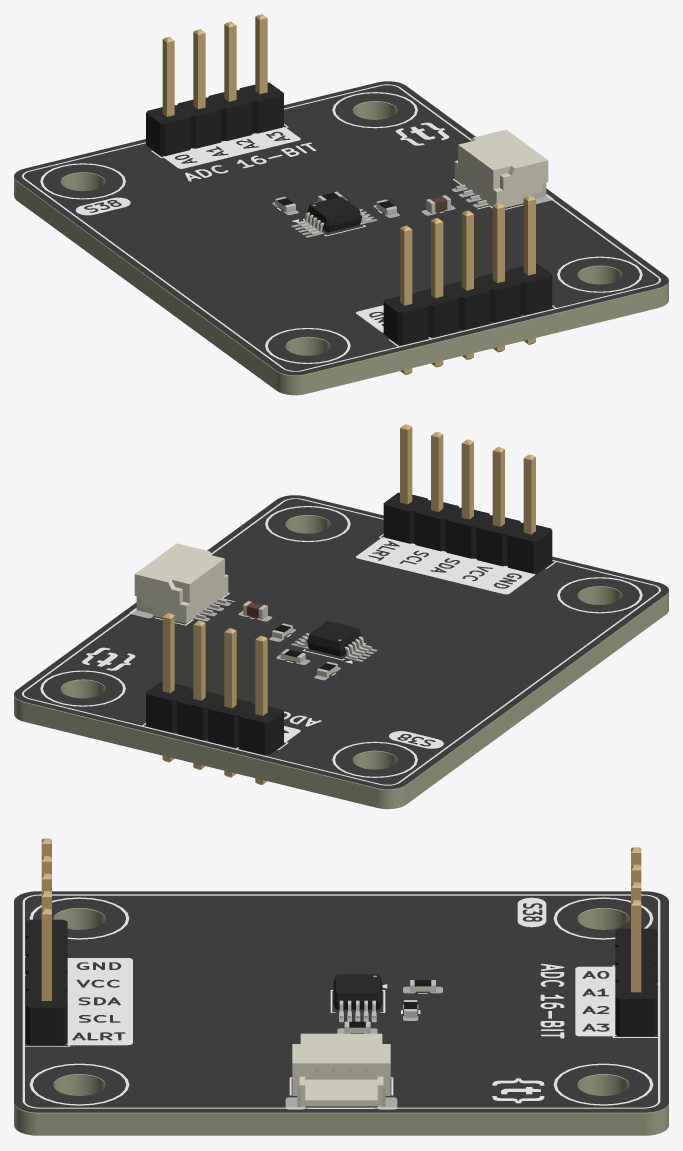
3 renders of one model, top to bottom at view 1: azimuth 30°, elevation 25°; view 2: azimuth 150°, elevation 25°; view 3: azimuth 270°, elevation 25°, orthographic. The views are drawn at different scales.
Visible parts, largest first — view 1: =>[0:1:1:11], =>[0:1:1:13], J1, J2, =>[0:1:1:9], J3, U1, =>[0:1:1:8]; view 2: =>[0:1:1:11], =>[0:1:1:13], J1, J2, =>[0:1:1:9], J3, U1, =>[0:1:1:8]; view 3: =>[0:1:1:11], =>[0:1:1:13], =>[0:1:1:9], J3, J1, J2, U1, =>[0:1:1:8].
Part boxes in pixels (left/top/right/bottom): =>[0:1:1:11]: left=14, top=81, right=668, bottom=375; =>[0:1:1:13]: left=14, top=101, right=668, bottom=395; J1: left=383, top=195, right=552, bottom=374; J2: left=146, top=14, right=283, bottom=156; =>[0:1:1:9]: left=22, top=84, right=660, bottom=371; J3: left=454, top=129, right=548, bottom=207; U1: left=297, top=197, right=371, bottom=235; =>[0:1:1:8]: left=272, top=188, right=553, bottom=237; =>[0:1:1:11]: left=14, top=495, right=668, bottom=789; =>[0:1:1:13]: left=14, top=515, right=668, bottom=809; J1: left=383, top=424, right=552, bottom=573; J2: left=146, top=613, right=283, bottom=784; =>[0:1:1:9]: left=22, top=498, right=660, bottom=785; J3: left=134, top=543, right=228, bottom=623; U1: left=297, top=621, right=371, bottom=659; =>[0:1:1:8]: left=129, top=601, right=377, bottom=680; =>[0:1:1:11]: left=14, top=891, right=668, bottom=1112; =>[0:1:1:13]: left=14, top=908, right=668, bottom=1135; =>[0:1:1:9]: left=22, top=894, right=660, bottom=1108; J3: left=292, top=1033, right=390, bottom=1106; J1: left=26, top=838, right=67, bottom=1045; J2: left=615, top=847, right=656, bottom=1036; U1: left=333, top=974, right=382, bottom=1018; =>[0:1:1:8]: left=285, top=987, right=442, bottom=1109.
Size of the model in its own units: 0.032 by 0.0115 by 0.04.
